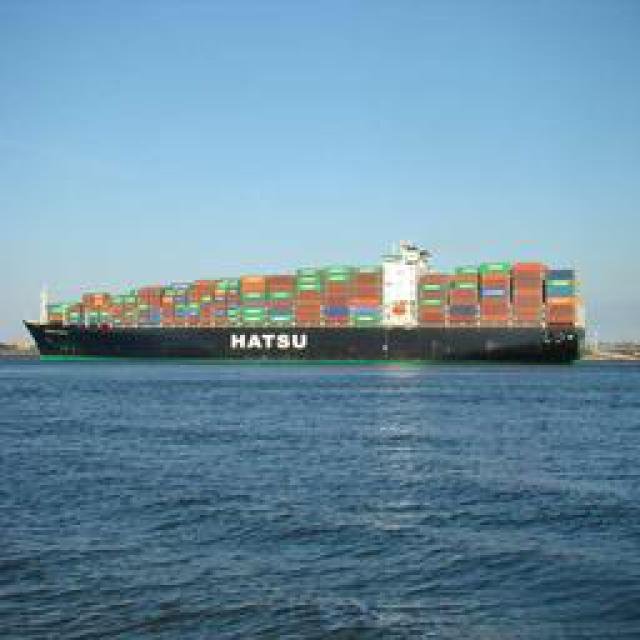Ship: (18, 256, 576, 361)
